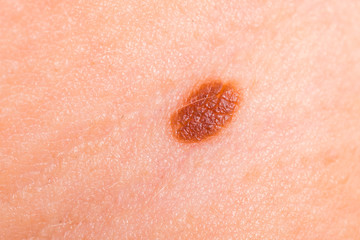melanoma: (155, 67, 254, 151)
